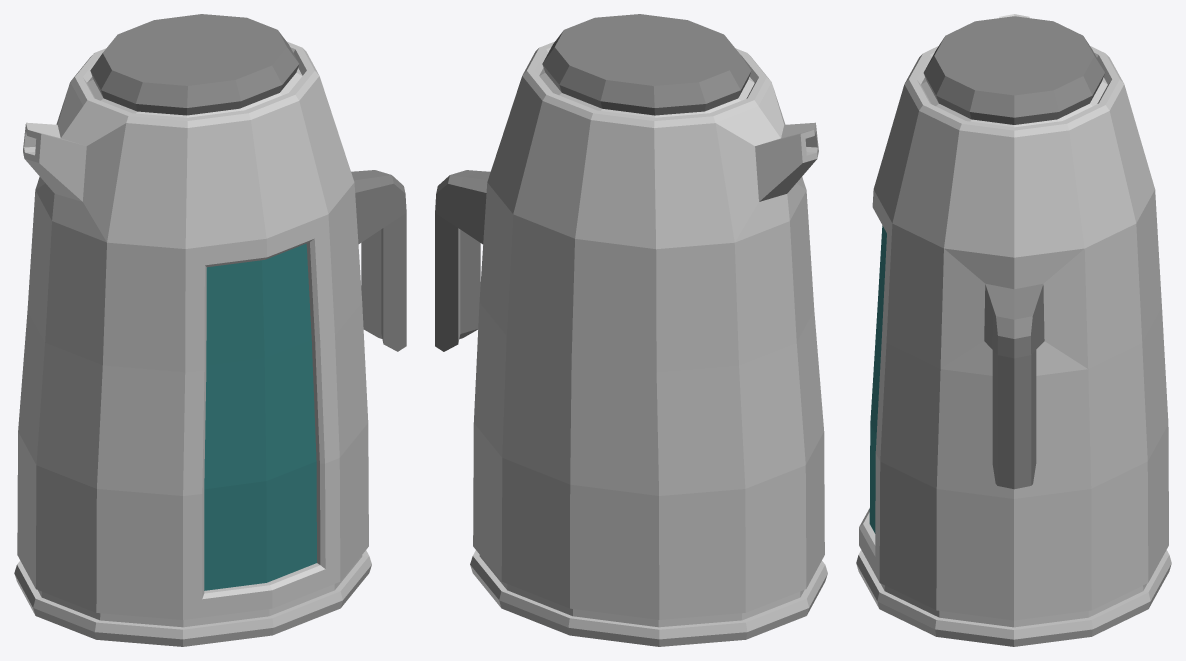
File: Kettle.glb
3 views of the same model, side by side, from view 1: azimuth 30°, elevation 25°; view 2: azimuth 150°, elevation 25°; view 3: azimuth 270°, elevation 25° (orthographic). The views are drawn at different scales.
Visible parts, largest first — view 1: Kettle; view 2: Kettle; view 3: Kettle.
Part boxes in pixels (box(x1,y1,x2,y2)): Kettle: box(14, 14, 406, 646); Kettle: box(435, 14, 827, 646); Kettle: box(856, 14, 1171, 646).
Size of the model in its own units: 207 by 273 by 151.
